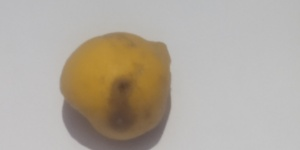BAD: (62, 32, 173, 143)
